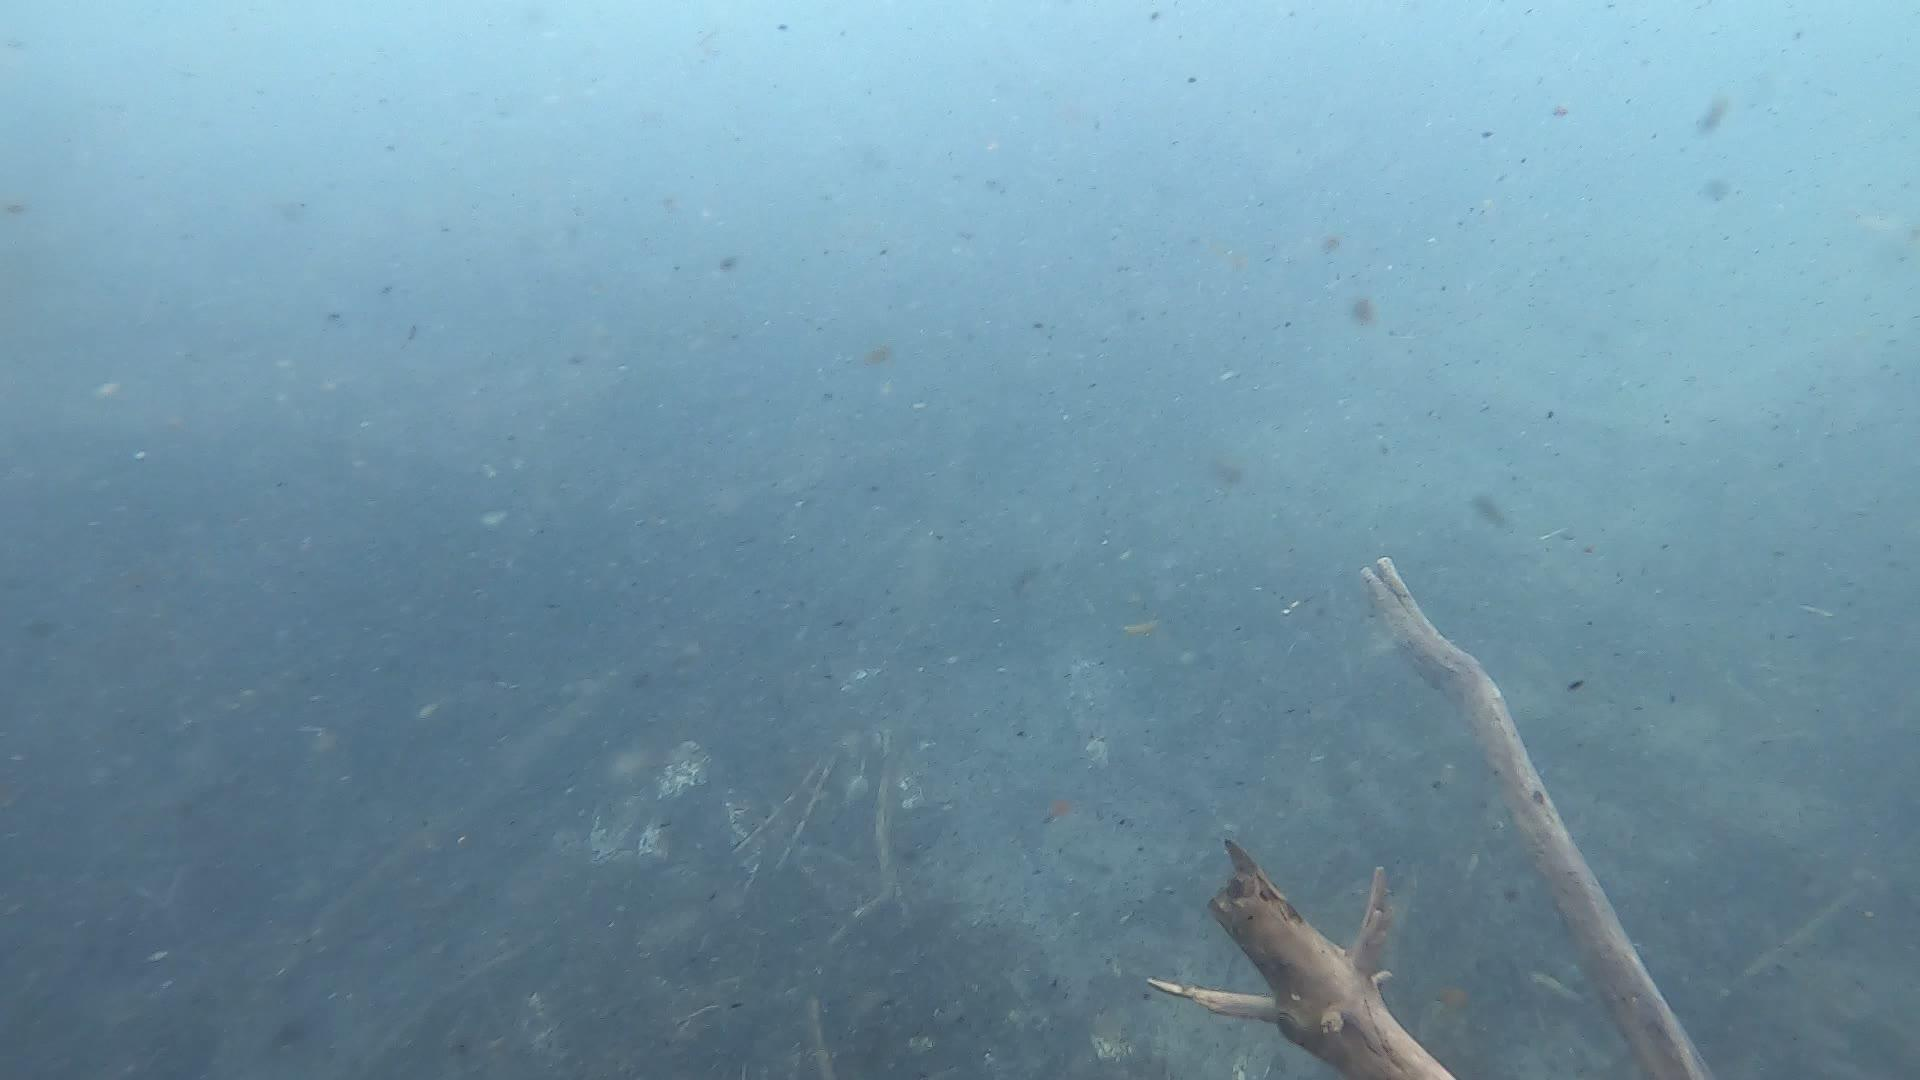wood: (1356, 551, 1713, 1080), (1147, 833, 1453, 1080)
